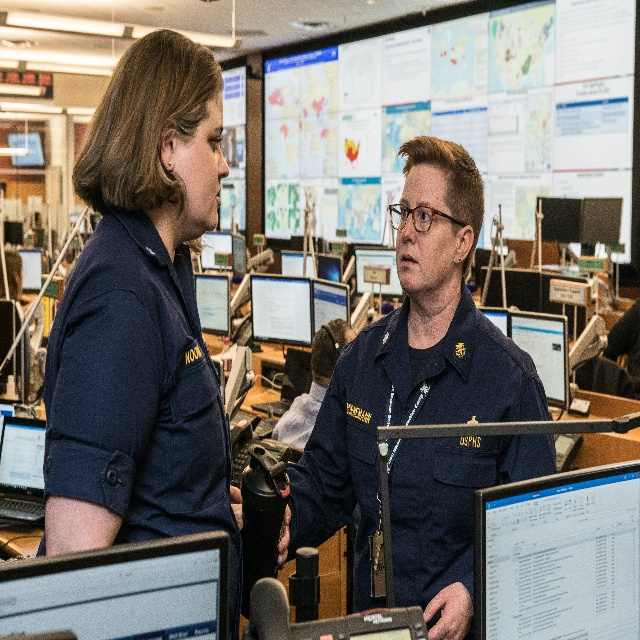Gafas: (388, 203, 468, 233)
Sin_guantes: (230, 498, 291, 570), (423, 580, 475, 640)
